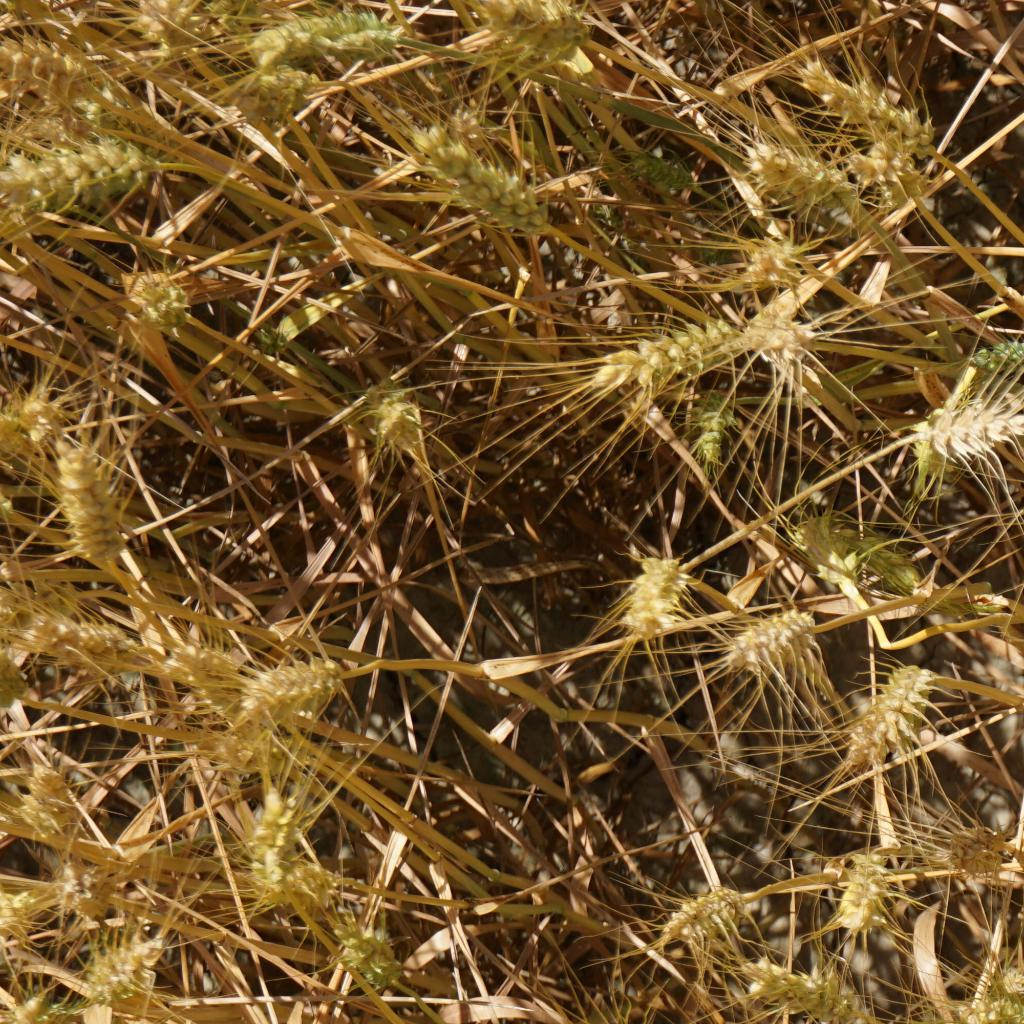0-0: (409, 124, 558, 232), (0, 139, 166, 212), (591, 308, 764, 378), (842, 647, 933, 769), (801, 67, 933, 150), (55, 448, 133, 576), (730, 948, 860, 1018), (33, 610, 150, 681), (465, 0, 599, 61), (237, 11, 402, 60), (721, 596, 823, 671), (166, 641, 254, 724), (239, 642, 353, 706), (235, 785, 299, 897), (621, 541, 690, 632), (324, 925, 412, 994), (75, 935, 167, 1000), (903, 404, 1019, 452), (666, 876, 751, 940), (794, 508, 871, 578), (0, 50, 86, 111), (233, 61, 320, 118), (827, 850, 886, 933), (744, 146, 839, 197), (359, 384, 425, 457), (742, 312, 823, 367), (13, 757, 68, 835), (687, 388, 737, 470), (942, 824, 1011, 882), (845, 150, 926, 199), (0, 390, 61, 455), (735, 229, 800, 286), (194, 722, 263, 775), (269, 854, 338, 907), (0, 571, 76, 615), (137, 272, 194, 325), (631, 146, 693, 194), (954, 983, 1024, 1024), (67, 862, 115, 921), (143, 0, 207, 41), (967, 333, 1024, 379), (0, 986, 64, 1024)
